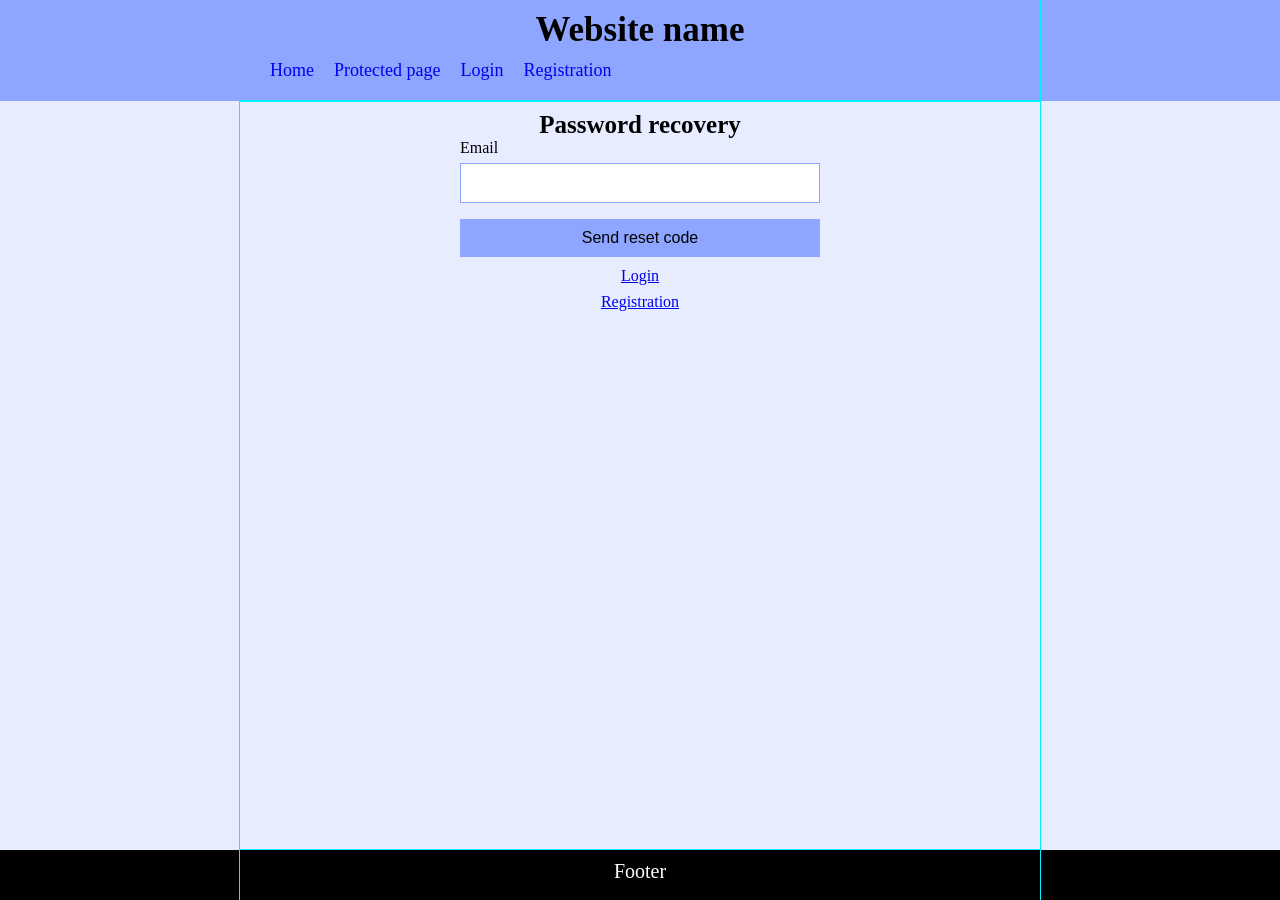
Scenario: a rejected recovery code does not authenticate or redirect the user
In the field labelled "Email": (640, 183) x1=460 y1=163 x2=820 y2=203, type "user@example.com"
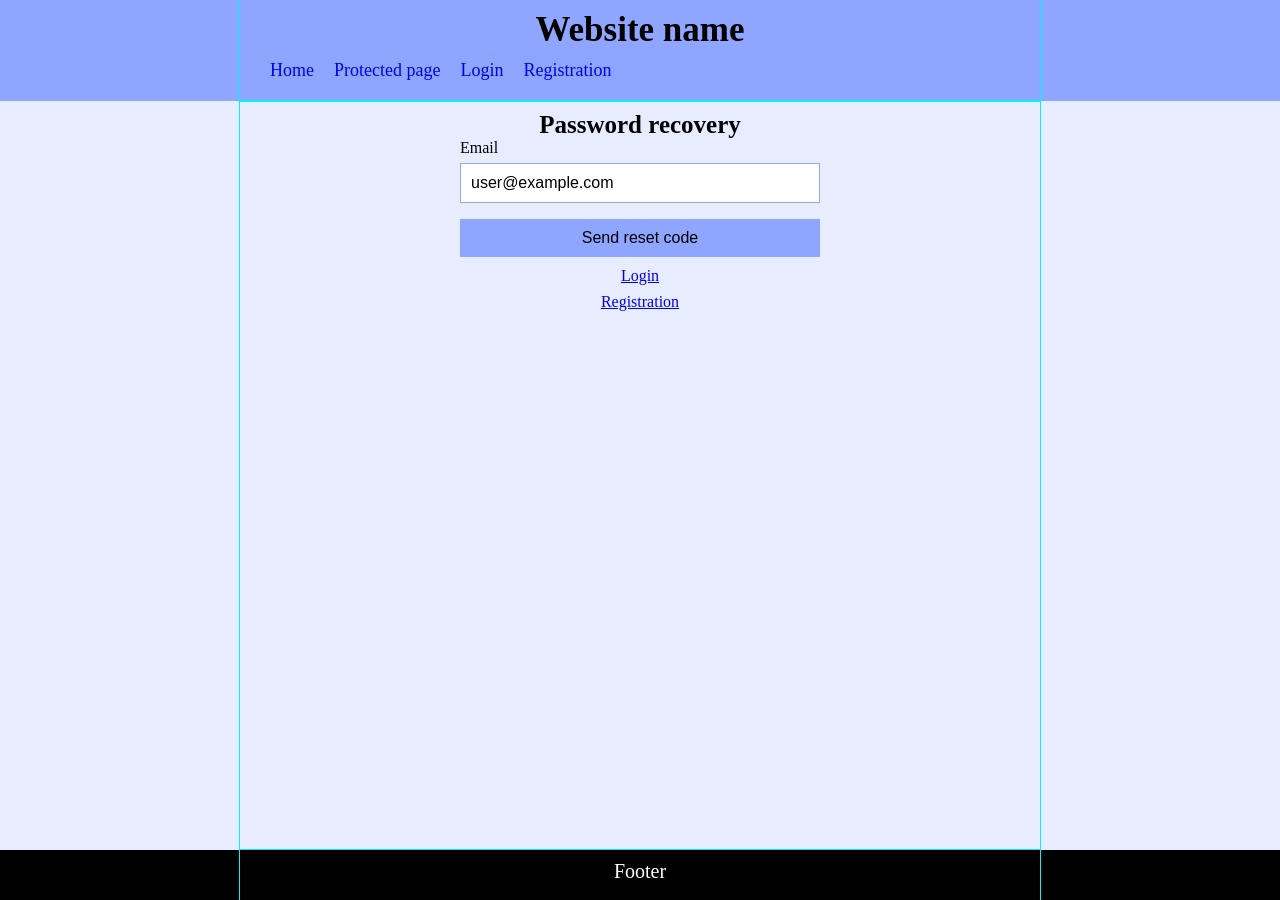
Submit the form, box x1=460 y1=139 x2=820 y2=257
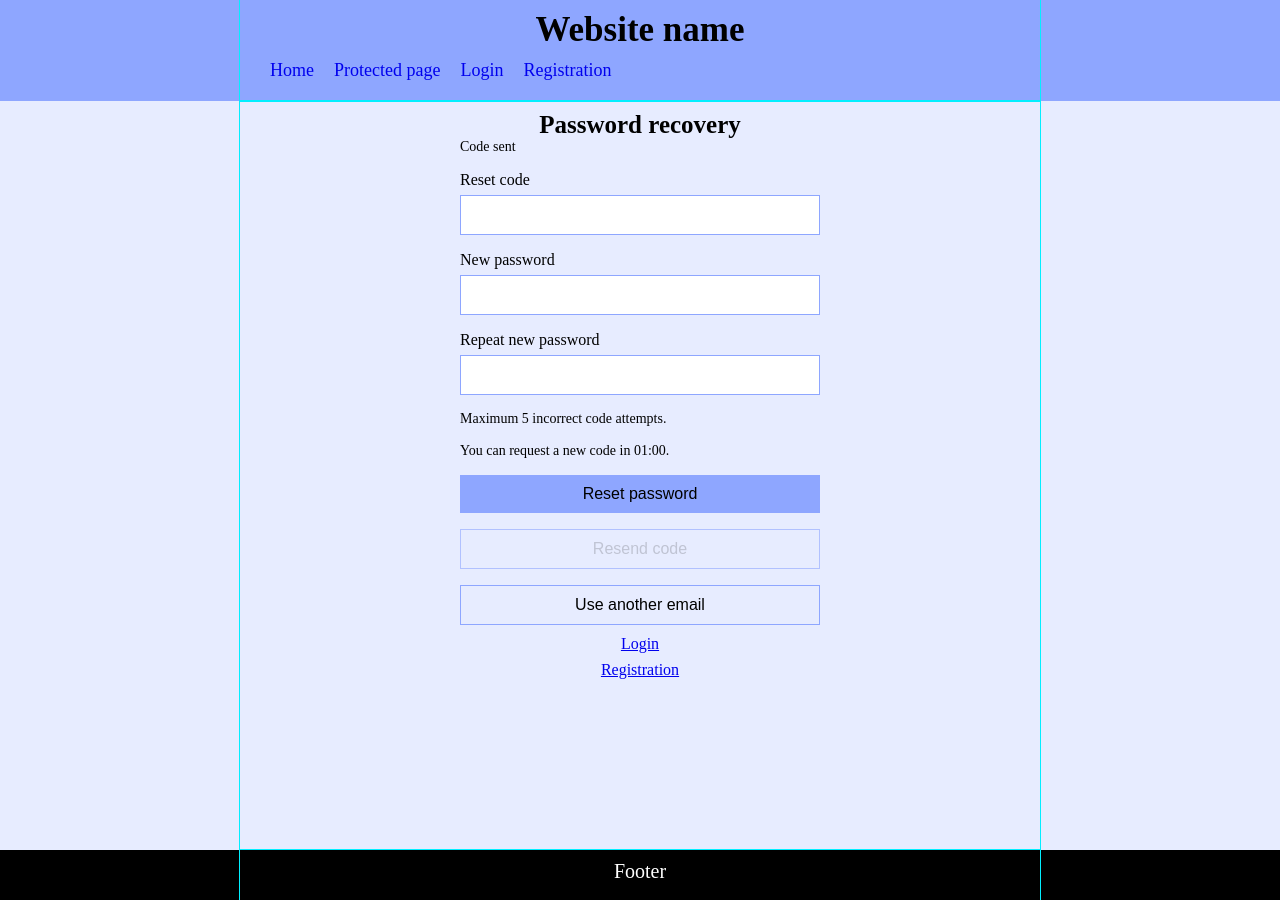
Result: the field labelled "Reset code" is shown
In the field labelled "Reset code": (640, 215) x1=460 y1=195 x2=820 y2=235, type "654321"
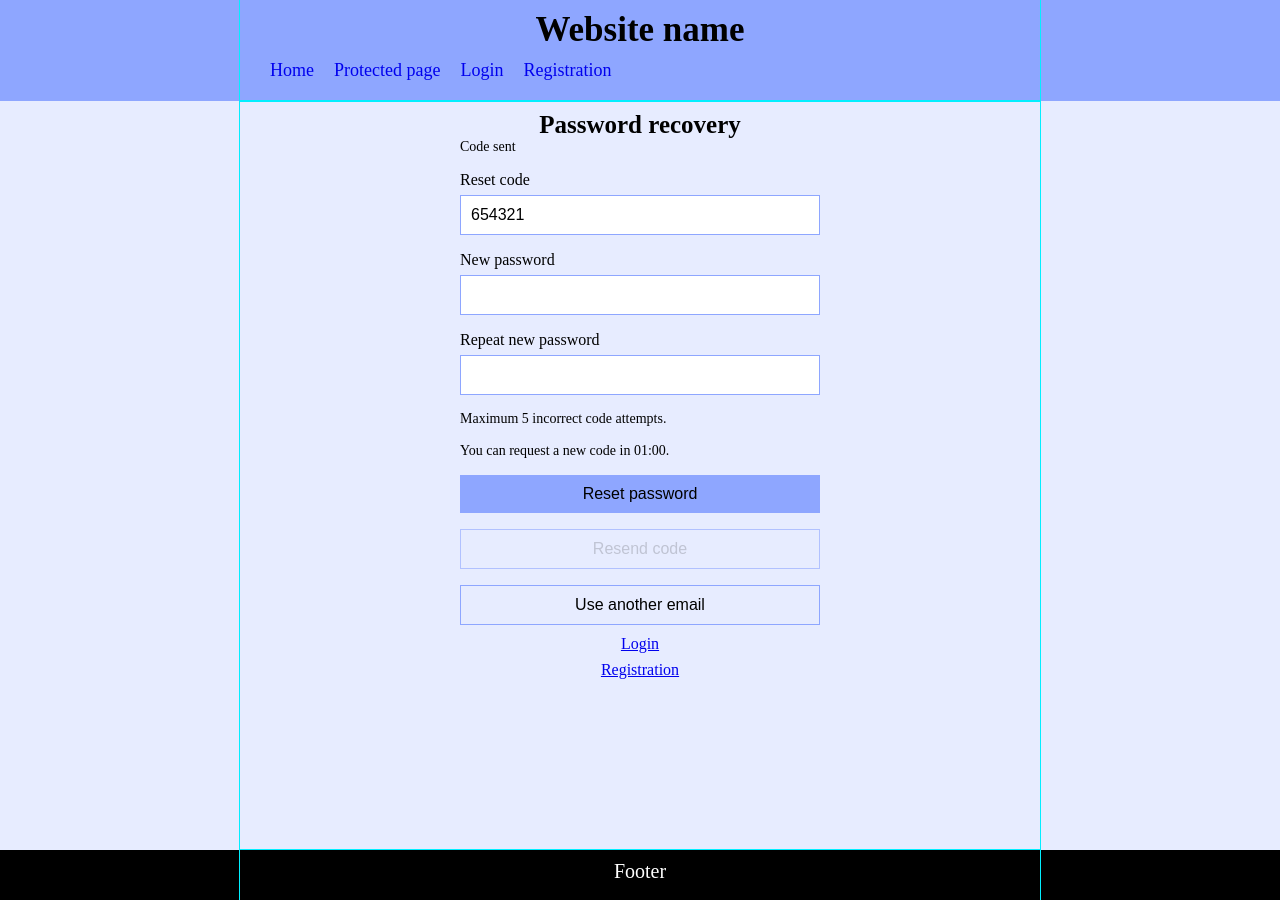
In the password field labelled "New password": (640, 295) x1=460 y1=275 x2=820 y2=315, type "new-password123"
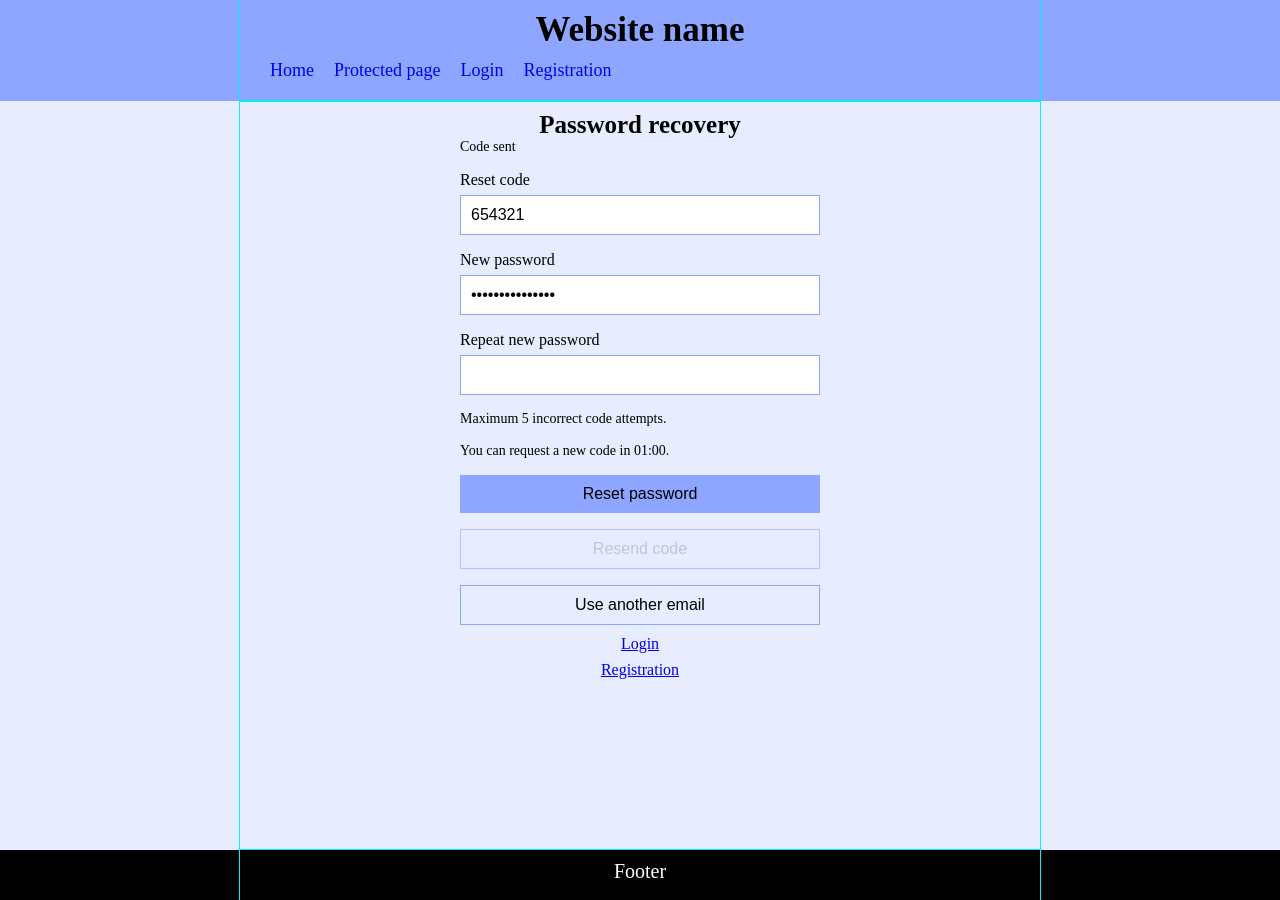
In the password field labelled "Repeat new password": (640, 375) x1=460 y1=355 x2=820 y2=395, type "new-password123"
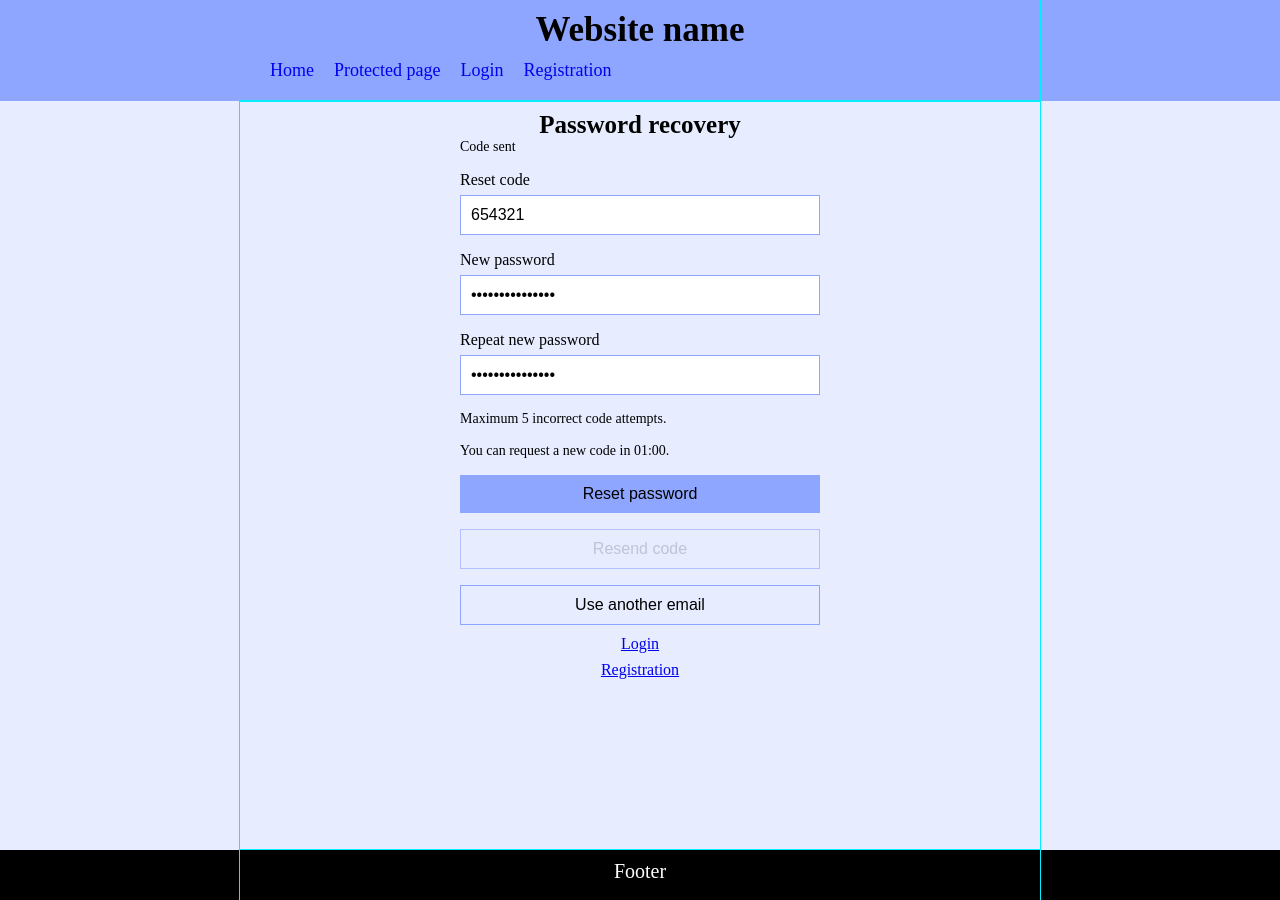
Submit the form, box x1=460 y1=139 x2=820 y2=625
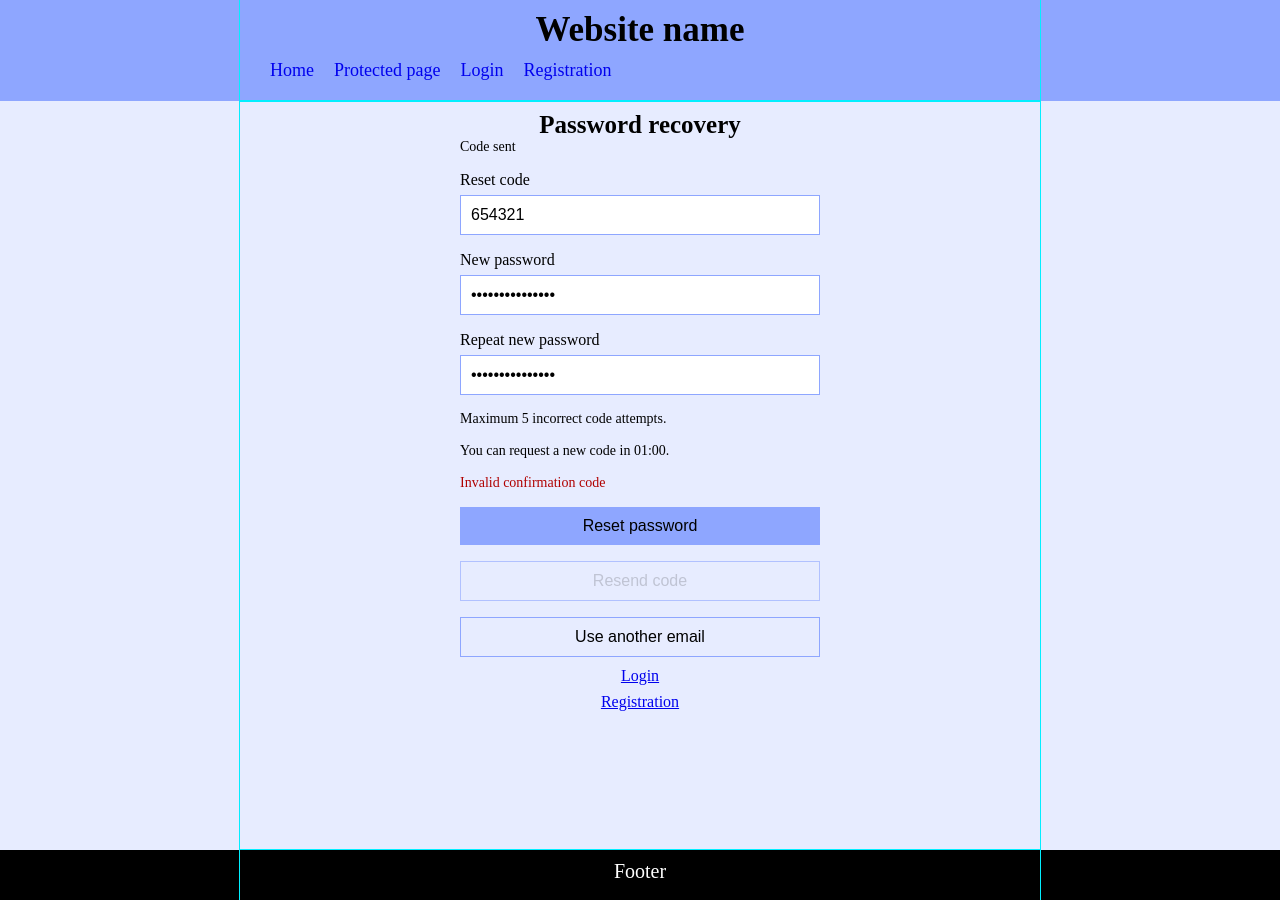
Result: the text "Invalid confirmation code" is shown at x1=460 y1=475 x2=605 y2=490
